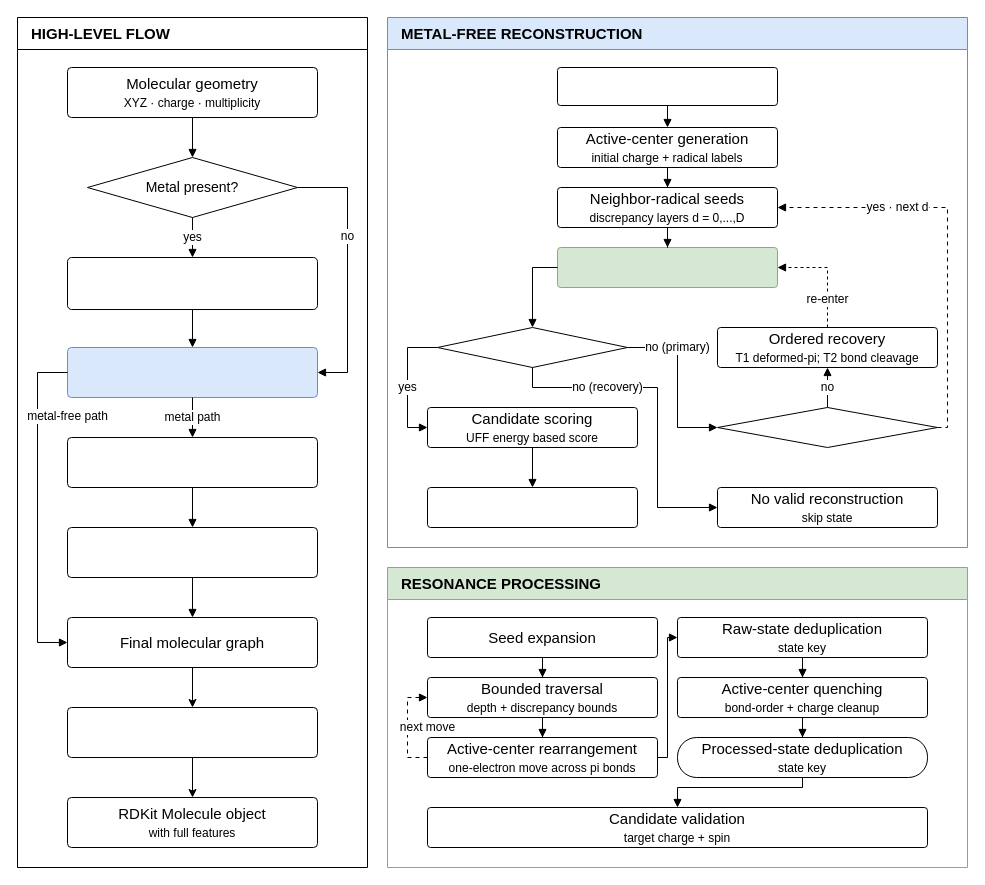
This 985x885 diagram has some shape labels left out. Here are the shapes that lost their labels. From the top down, the centre of each, then its label:
At point (667, 86): "Metal-free input XYZ · charge · multiplicity".
At point (192, 283): "Layered metal-state search feasible valence + spin".
At point (667, 267): "Resonance processing one-electron moves + quenching".
At point (532, 347): "Candidates found?".
At point (192, 372): "Metal-free reconstruction per feasible state".
At point (827, 427): "More d layers?".
At point (192, 462): "Rank valence/spin states discordance-based selection".
At point (532, 507): "Select best organic graph reuse score; selection key".
At point (192, 552): "Combine metal and graph if present".
At point (192, 732): "Post-processing dative bonds & stereochemistry".
